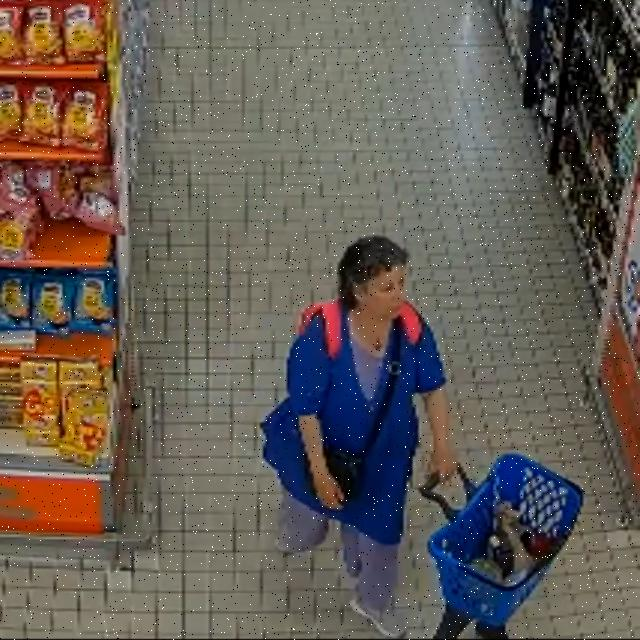bags: (324, 321, 400, 502), (298, 300, 342, 359)
hands: (312, 465, 344, 510), (429, 446, 458, 483)
person: (263, 236, 457, 637)
